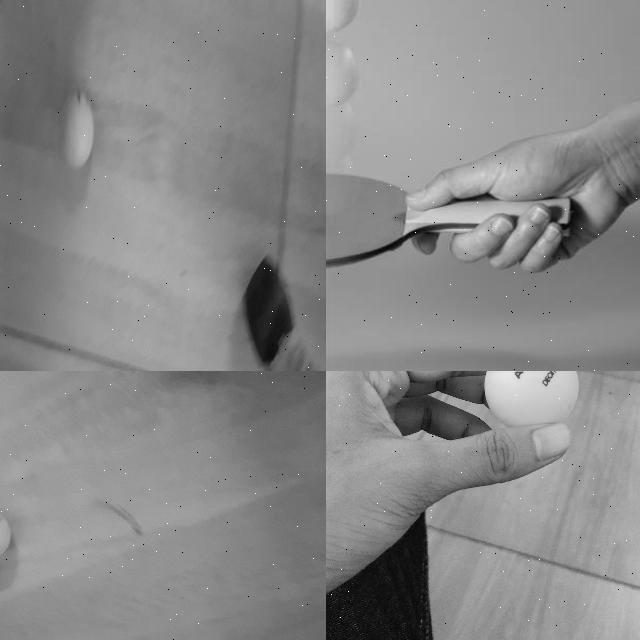ping-pong-ball: (483, 371, 578, 428), (60, 90, 94, 168), (326, 43, 360, 107), (326, 150, 359, 215), (326, 0, 361, 33), (0, 510, 11, 560)
